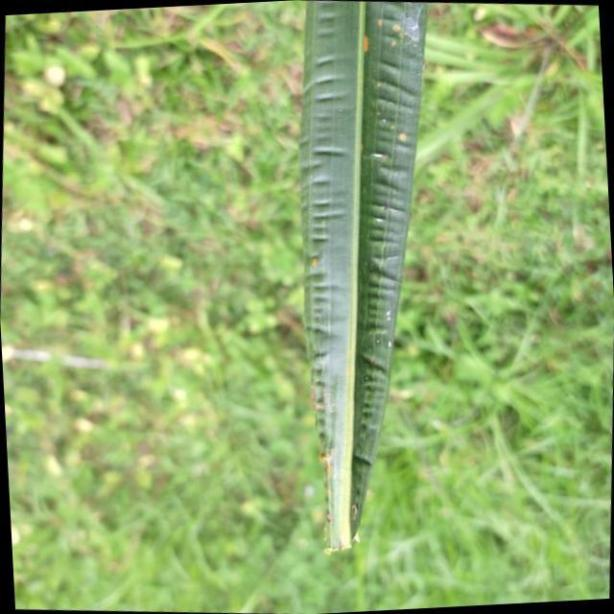Boron: (299, 2, 427, 560)
